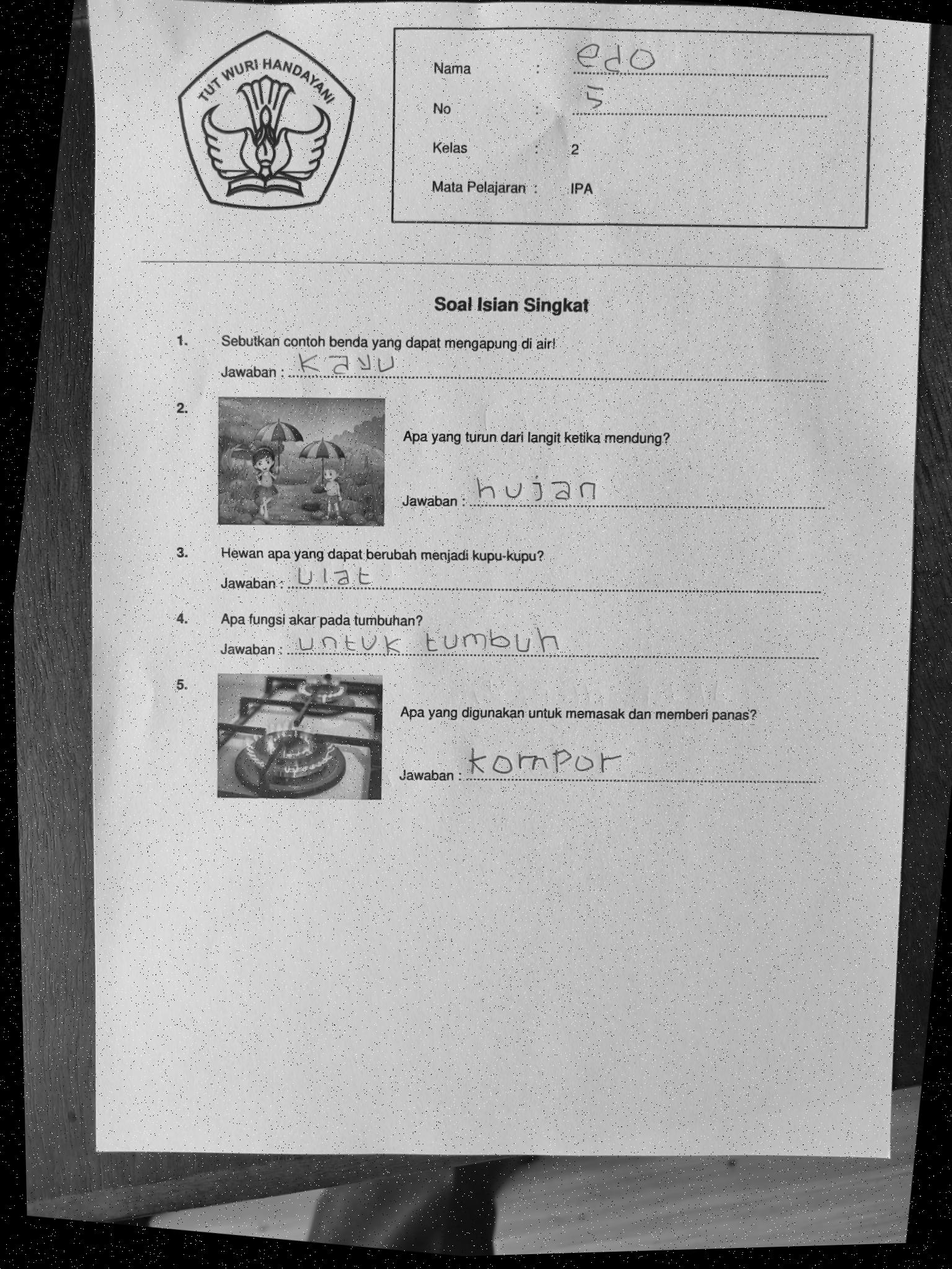soal-1: (162, 323, 848, 404)
soal-2: (163, 389, 843, 530)
soal-3: (162, 527, 851, 614)
soal-4: (161, 604, 841, 672)
soal-5: (167, 673, 839, 805)
